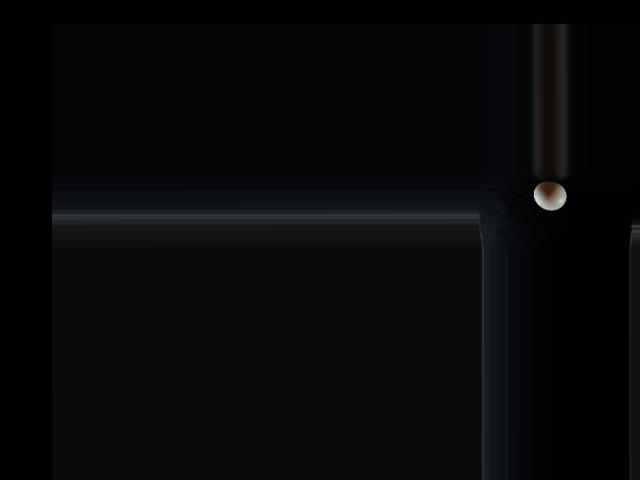egg: (532, 180, 565, 210)
